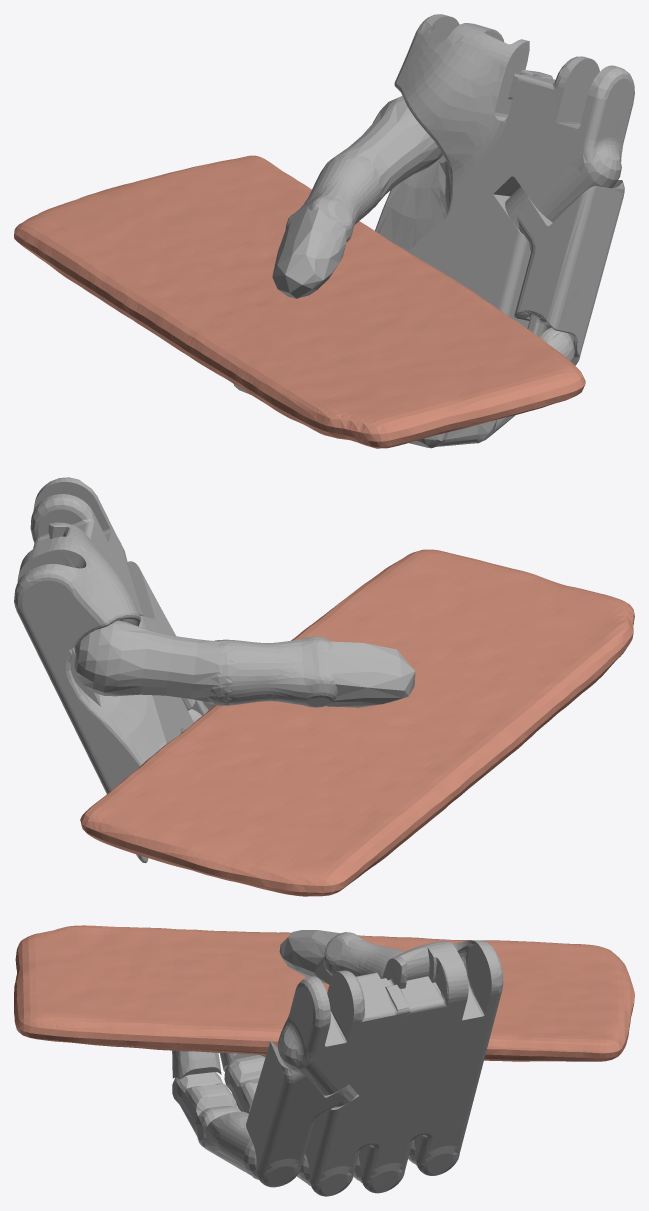
3 renders of one model, top to bottom at view 1: azimuth 30°, elevation 25°; view 2: azimuth 150°, elevation 25°; view 3: azimuth 270°, elevation 25°, orthographic. The views are drawn at different scales.
Visible parts, largest first — view 1: world; view 2: world; view 3: world.
Boxes of the visible parts, <box> form: world: <box>14,14,634,448</box>; world: <box>14,477,634,896</box>; world: <box>14,925,634,1196</box>.
Bounding box in the file's own units: 1.18 × 0.7528 × 1.55.
